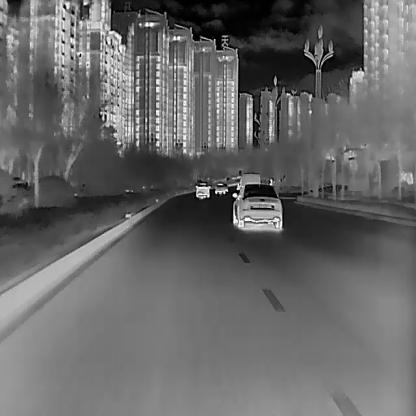car: (231, 182, 283, 228), (239, 172, 260, 188), (195, 180, 210, 198), (213, 180, 225, 194), (222, 181, 228, 191)
